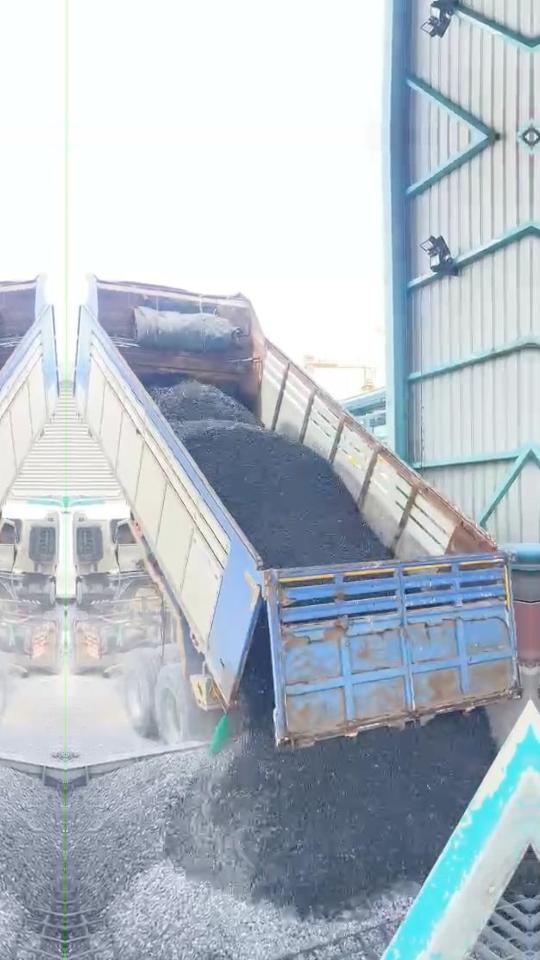gravel: (69, 613, 494, 960), (152, 380, 390, 567), (511, 846, 530, 894)
